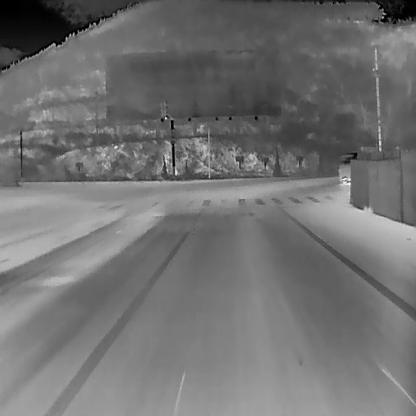car: (338, 152, 358, 183)
